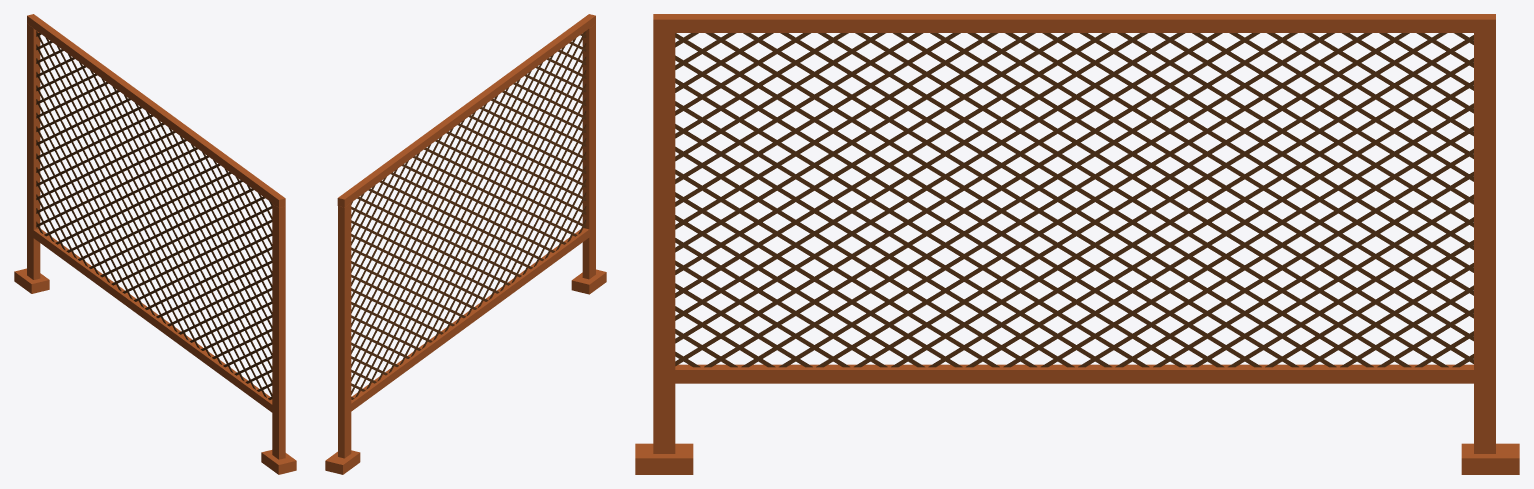
Rendered from HULAN_01.glb.
The picture shows the model from 3 angles, left to right: view 1: azimuth 30°, elevation 25°; view 2: azimuth 150°, elevation 25°; view 3: azimuth 270°, elevation 25°; orthographic projection. The views are drawn at different scales.
Parts seen in each view (by area): view 1: HULAN_01; view 2: HULAN_01; view 3: HULAN_01.
Part boxes in pixels (box(x1,y1,x2,y2)): HULAN_01: box(14, 14, 296, 474); HULAN_01: box(325, 14, 606, 474); HULAN_01: box(635, 14, 1519, 474).
Size of the model in its own units: 0.0979 by 1.41 by 2.5.
